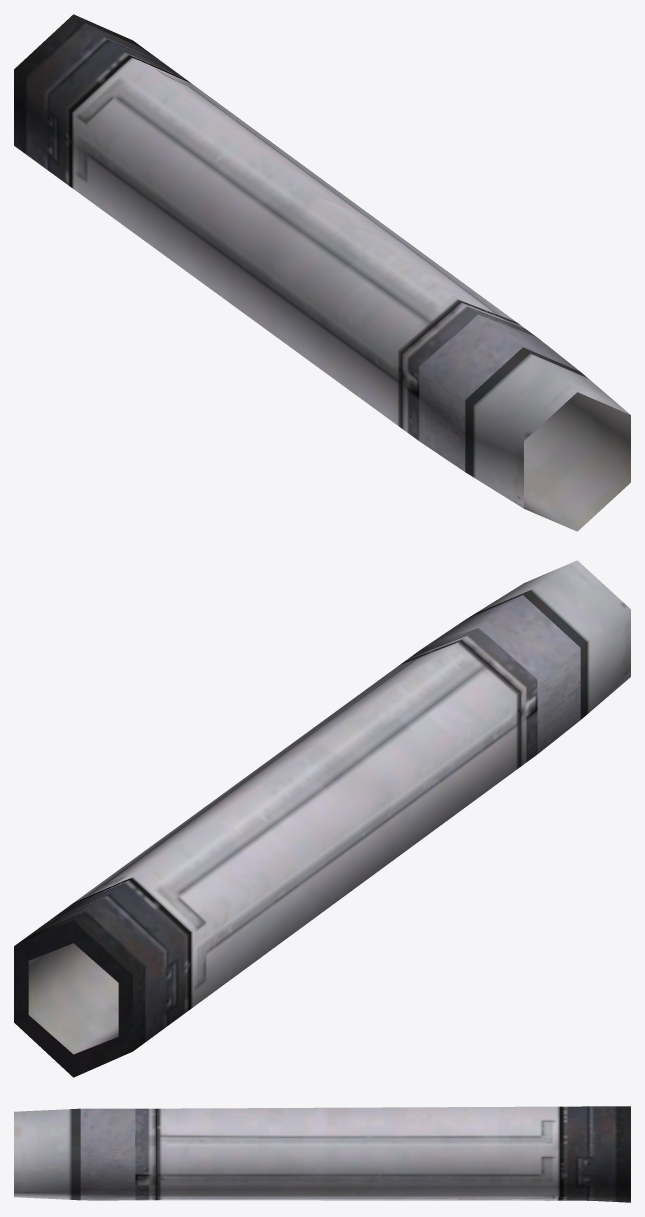
File: eqp_comp_missile_launcher_l3.fbx
3 views of the same model, one above another, from view 1: azimuth 30°, elevation 25°; view 2: azimuth 150°, elevation 25°; view 3: azimuth 270°, elevation 25° (orthographic). The views are drawn at different scales.
Parts seen in each view (by area): view 1: mesh_node; view 2: mesh_node; view 3: mesh_node.
Boxes of the visible parts, box(x1,y1,x2,y2) form: mesh_node: box(14, 14, 630, 531); mesh_node: box(14, 560, 630, 1077); mesh_node: box(14, 1106, 630, 1202).
Bounding box in the file's own units: 0.2728 × 0.3452 × 2.
1 material, 1 textured.
